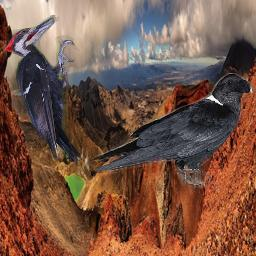Crow: (88, 73, 256, 193)
Woodpecker: (3, 15, 82, 167)
